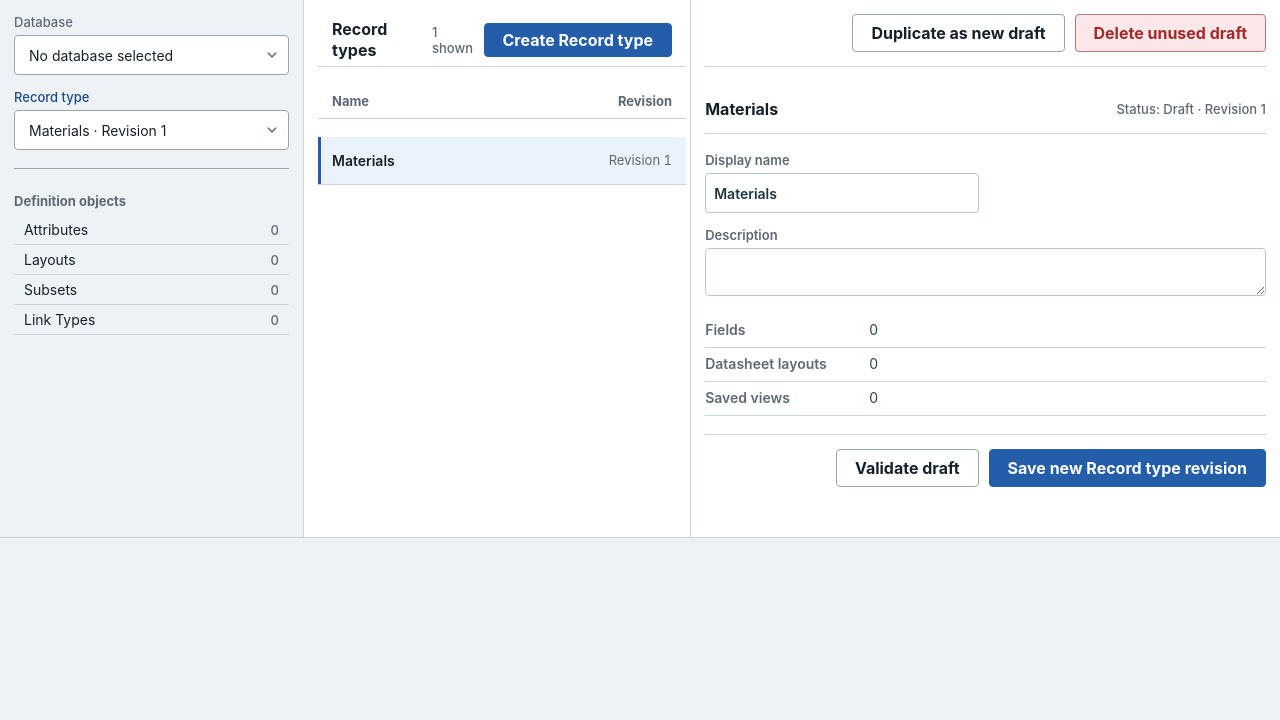
Test: ConfigurableCatalogAdmin › keeps the selection and explains a server-blocked draft deletion
The width and height of the screenshot is (1280, 720).
Check: the heading "Materials" is shown, box [705,99,778,119]
Click the button "Delete unused draft" at (1170, 33), box [1074,14,1266,52]
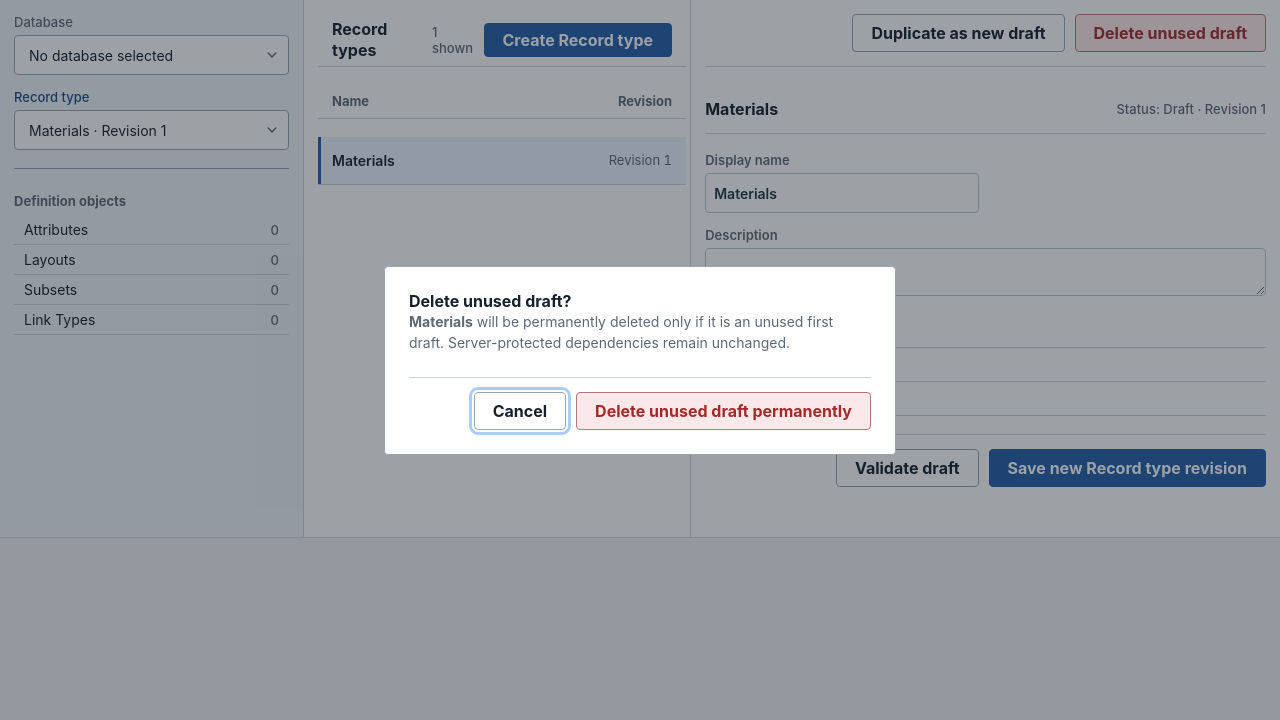
Click the button "Delete unused draft permanently" at (724, 410), box [576,392,871,430]
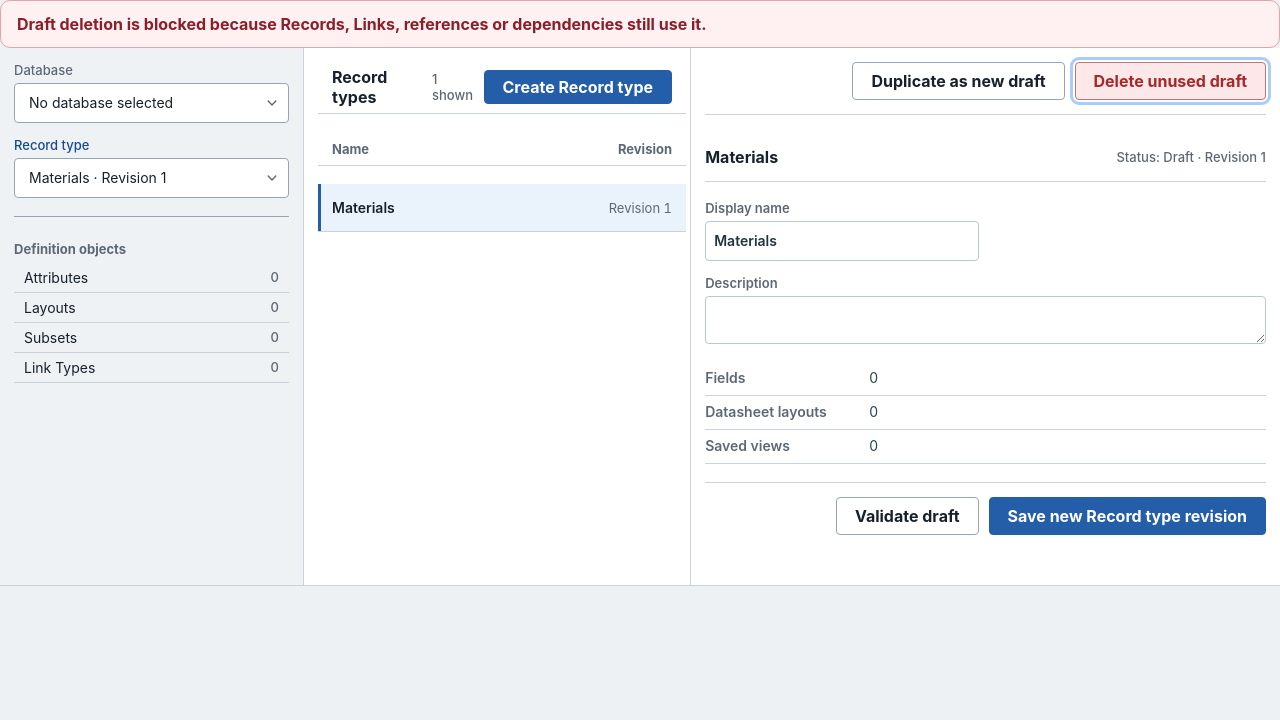
Check: the heading "Materials" is shown, box [705,147,778,167]
Check: the message shows "Records, Links, references or dependencies", box [17,14,706,34]
